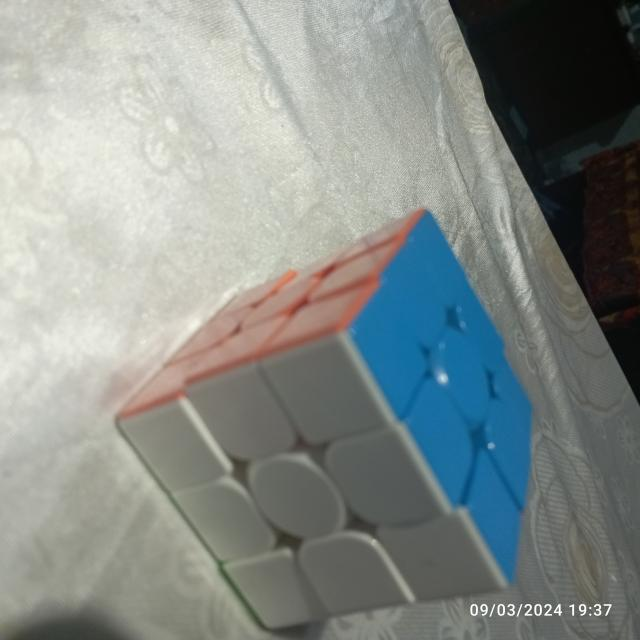Rub: (108, 202, 541, 632)
